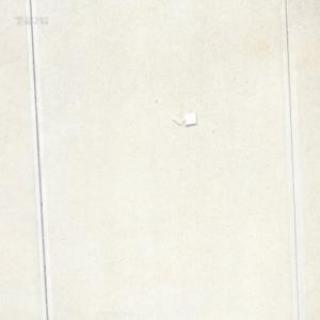LuggageTagtrack_idkeyframe: (171, 110, 196, 128)
